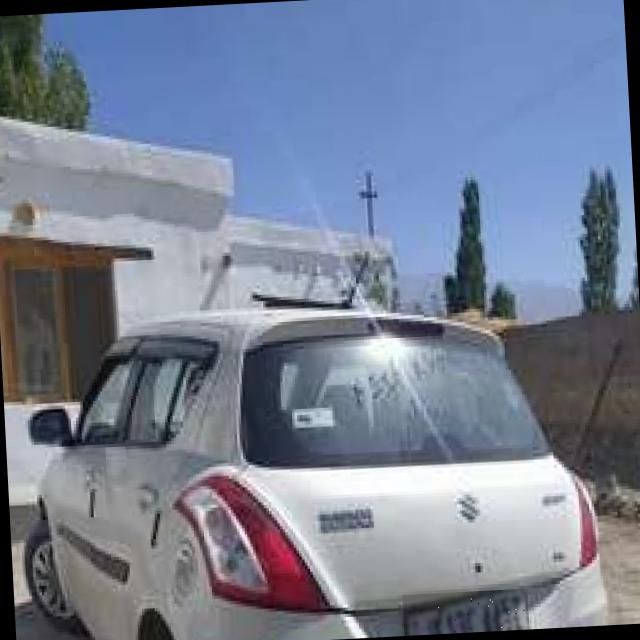Plate: (404, 590, 528, 637)
